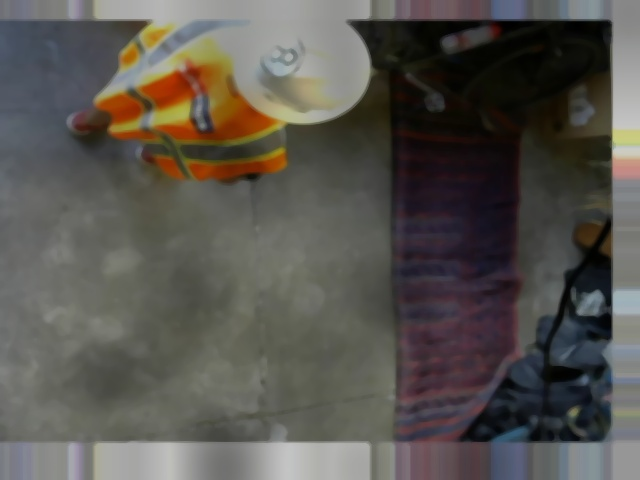eight: (259, 28, 305, 78)
